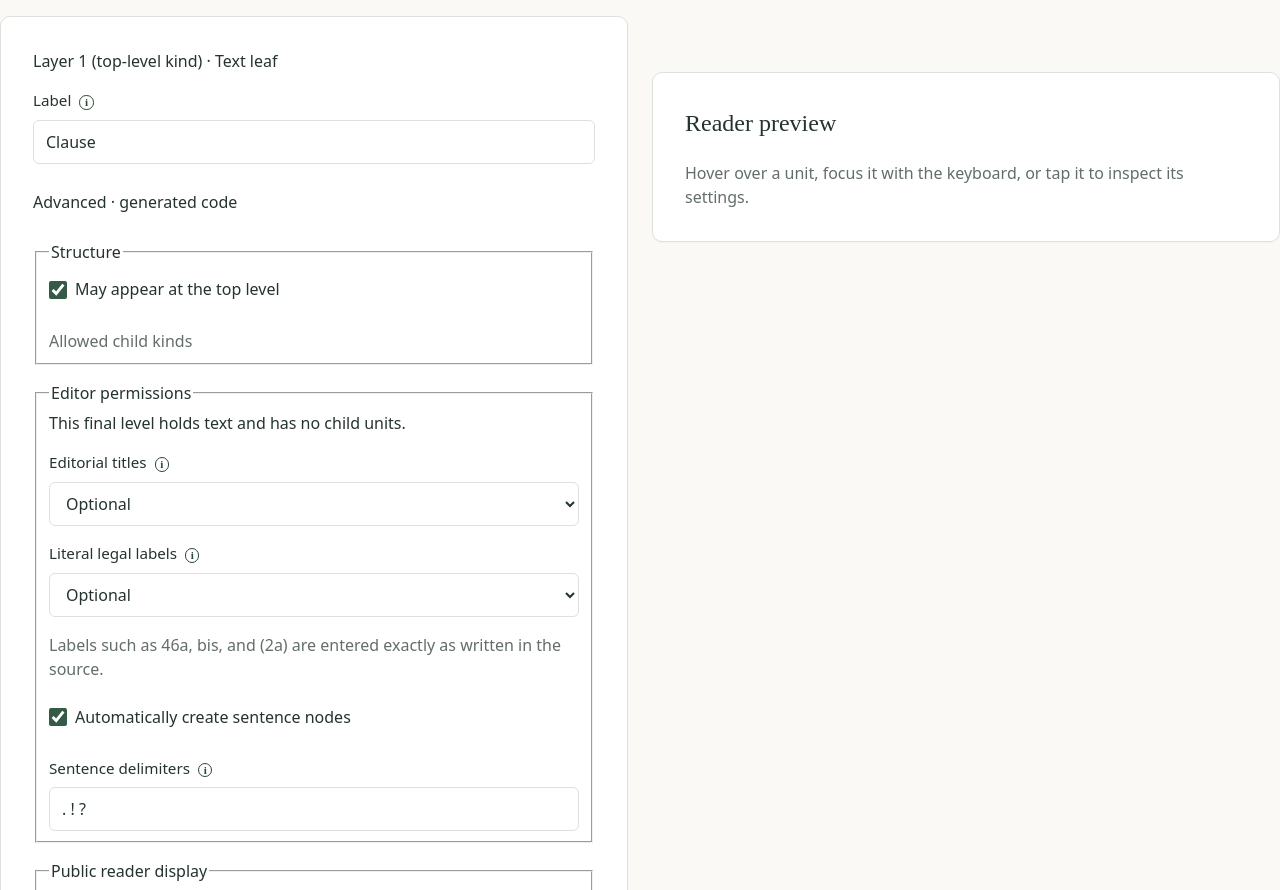
Test: automatic sentence settings › turns off automatic creation when an authored label becomes required and explains why
Select "Required" in the dropdown named "label-policy-0" at (314, 595), box [49,573,579,617]
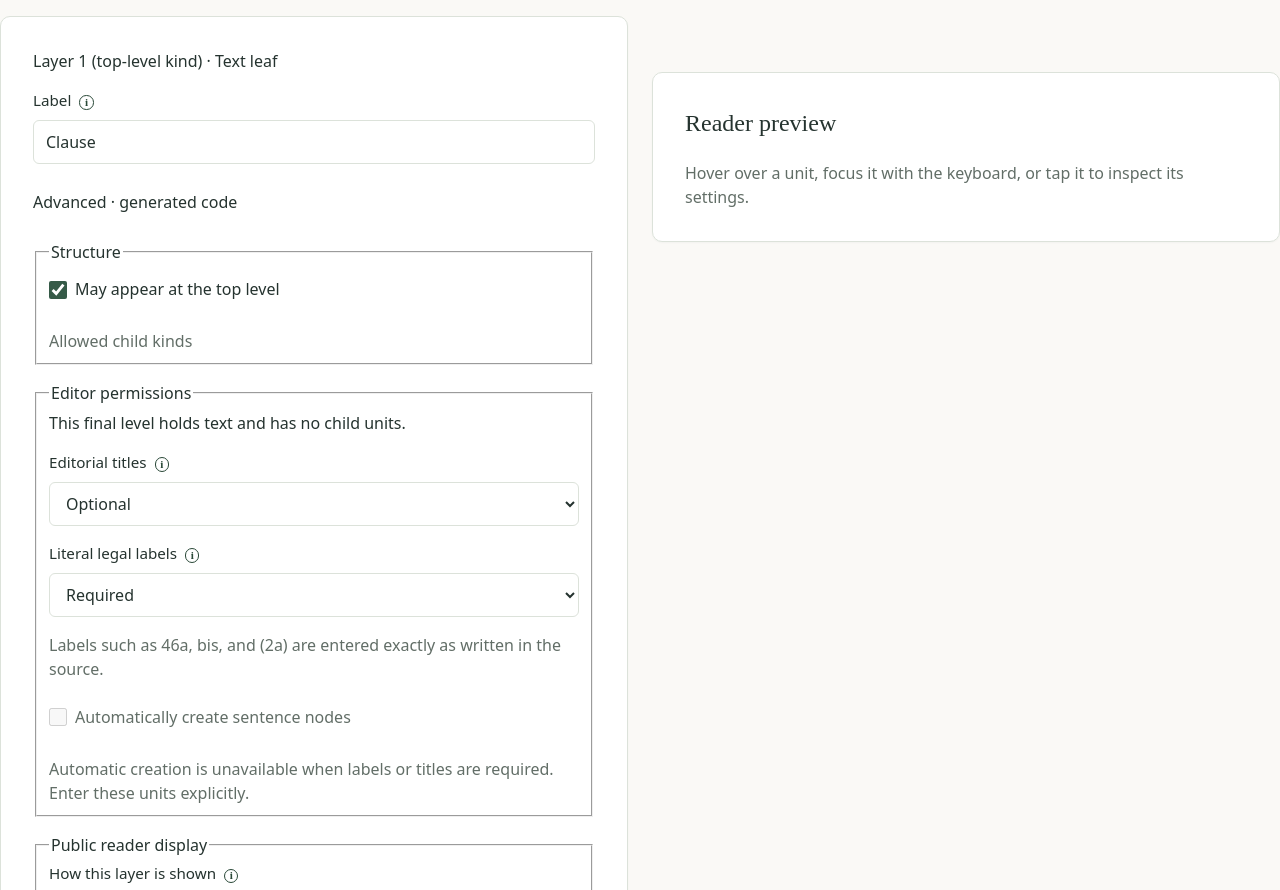
Now the checkbox labelled "Automatically create sentence nodes" is disabled, box [49,708,67,726]
Now the text "Enter these units explicitly" is shown, box [49,758,554,804]
